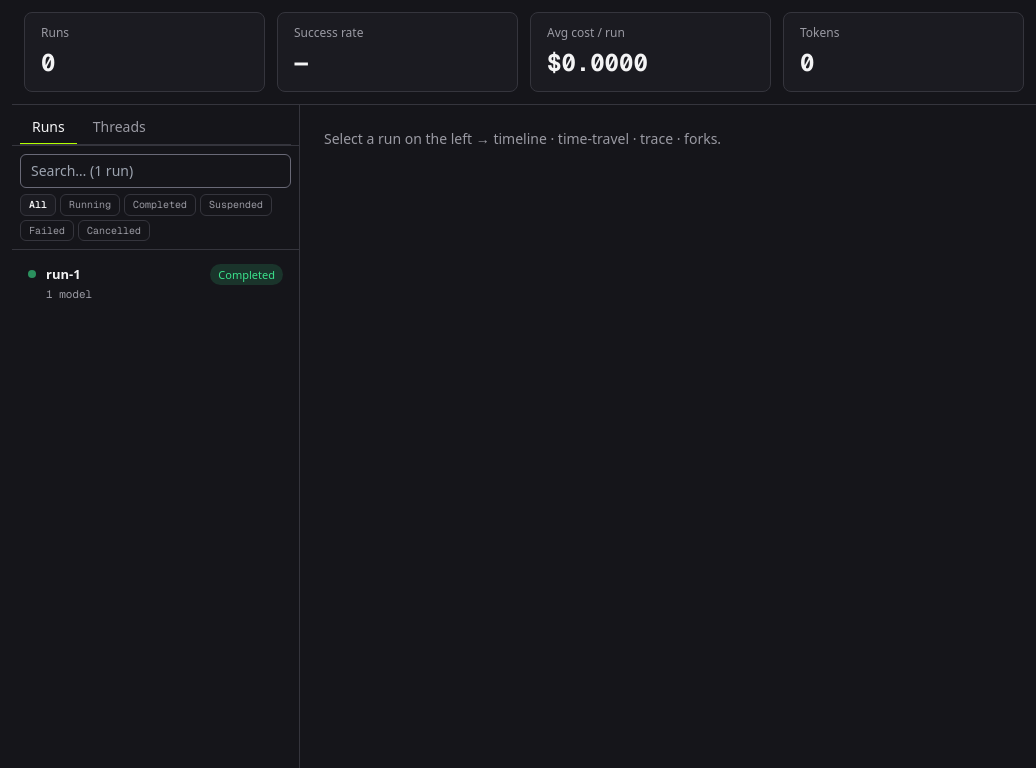
Test: Inspector — deep links (FLOW-07) and desktop selection recovery (FLOW-12) › FLOW-07: selecting a run writes ?run= into the URL (does not stay only in localStorage)
This screenshot has width=1036, height=768.
Click the text "run-1". click: (63, 274)
box: [46,264,81,284]
(page scrolled)
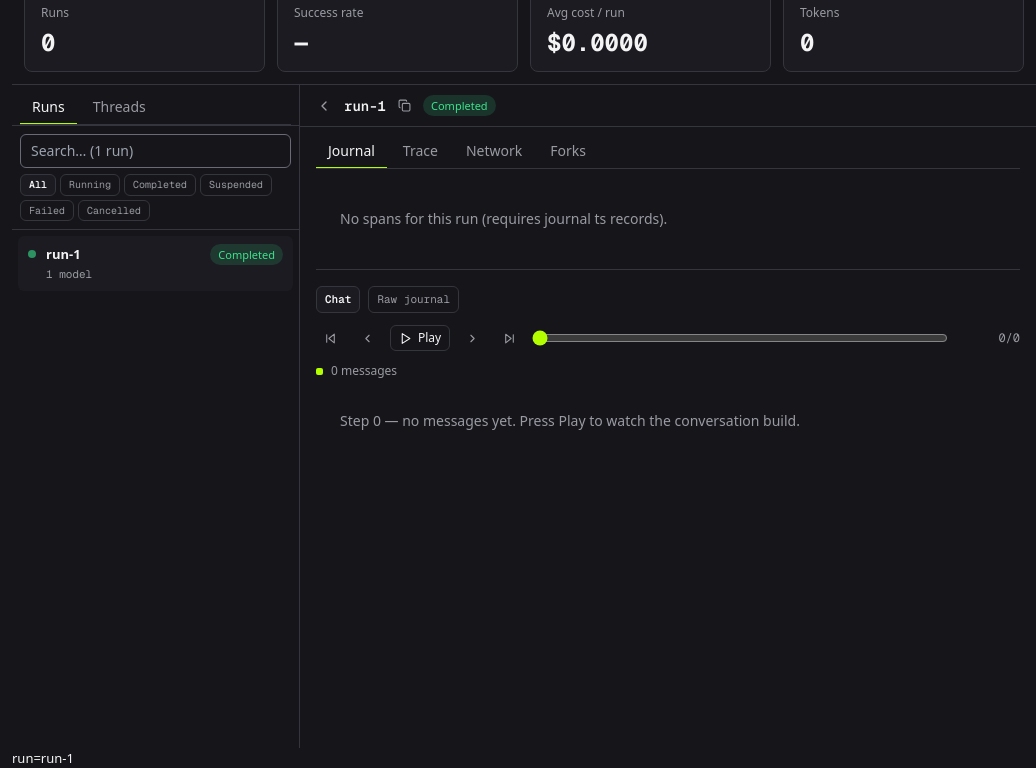
Now the text with test id "search-probe" reads "run=run-1", box [12,749,74,767]
